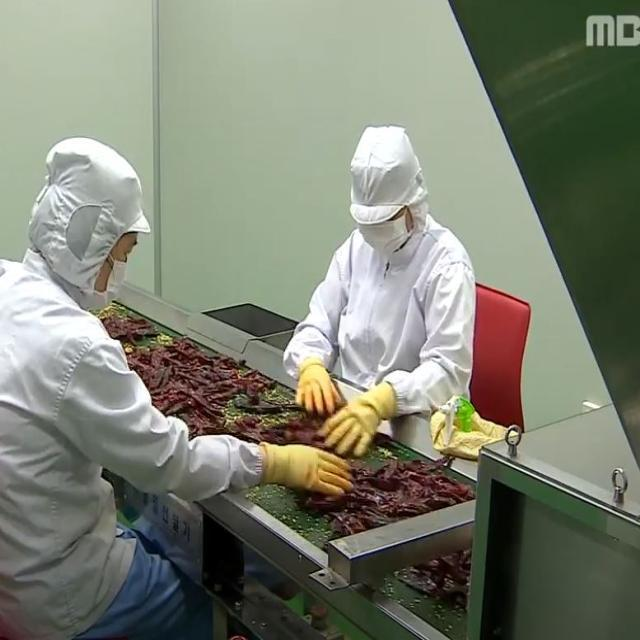gloved_hand: (254, 436, 358, 500), (321, 377, 398, 454), (289, 360, 340, 416)
